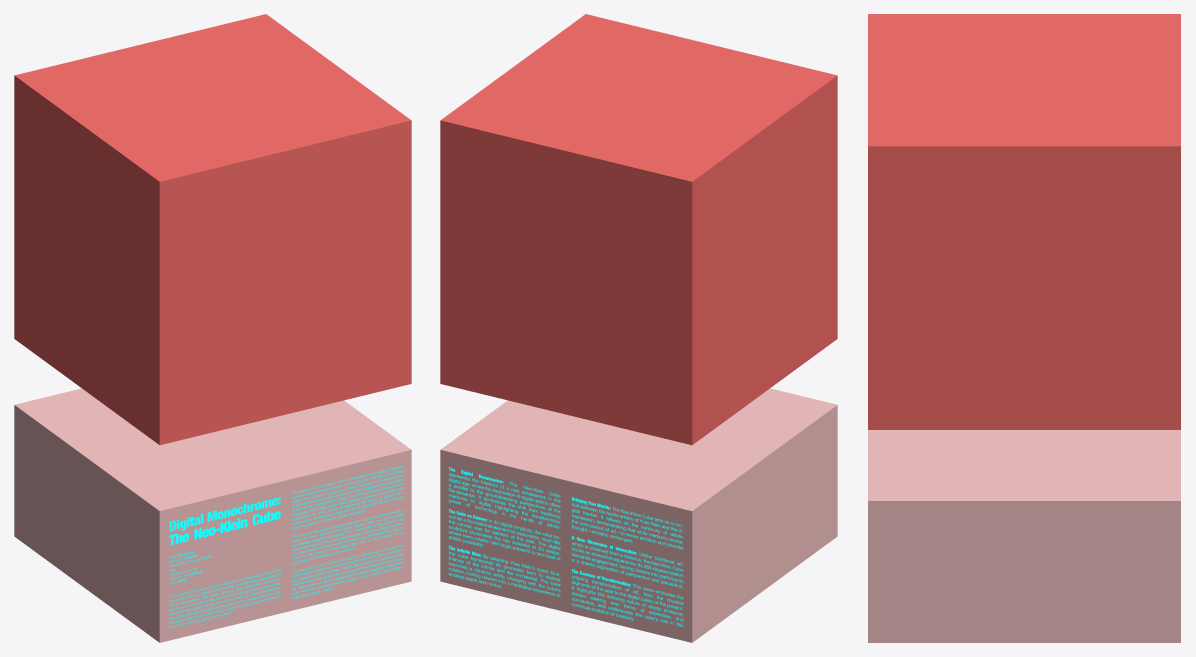
Rendered from NEOKLEIN-red2-v122.glb.
3 views of the same model, side by side, from view 1: azimuth 30°, elevation 25°; view 2: azimuth 150°, elevation 25°; view 3: azimuth 270°, elevation 25° (orthographic). The views are drawn at different scales.
Visible parts, largest first — view 1: yves klein blue monochrome-151d9c-; view 2: yves klein blue monochrome-151d9c-; view 3: yves klein blue monochrome-151d9c-.
Boxes of the visible parts, left/top/right/bottom form: yves klein blue monochrome-151d9c-: left=14, top=14, right=411, bottom=642; yves klein blue monochrome-151d9c-: left=440, top=14, right=837, bottom=642; yves klein blue monochrome-151d9c-: left=868, top=14, right=1180, bottom=642.
Bounding box in the file's own units: 5.82 × 10.18 × 5.86.
Materials: 3 (3 with a texture image).
